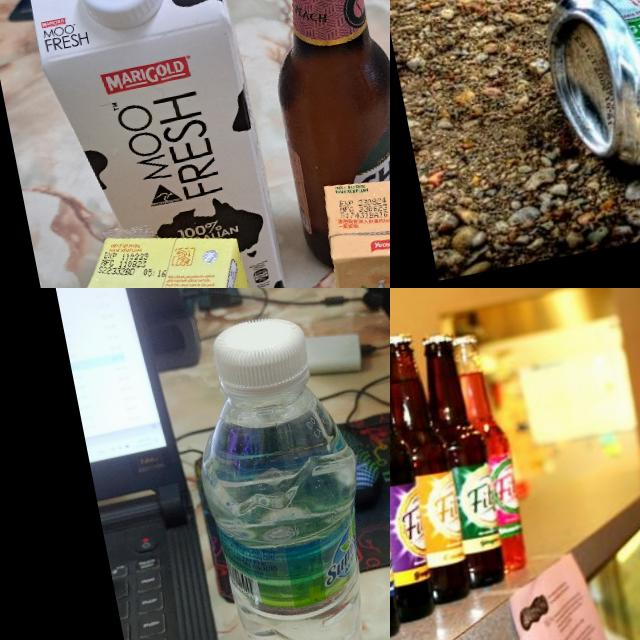caixinha: (9, 0, 291, 288), (63, 208, 293, 288)
garrafa de vidro: (240, 0, 390, 275), (414, 330, 514, 593), (390, 330, 476, 609), (451, 332, 534, 576), (390, 328, 440, 627)
garrafa plástica: (188, 377, 390, 640)
lata: (530, 0, 640, 182)
tampa plástica: (207, 306, 317, 408), (69, 0, 171, 36)
